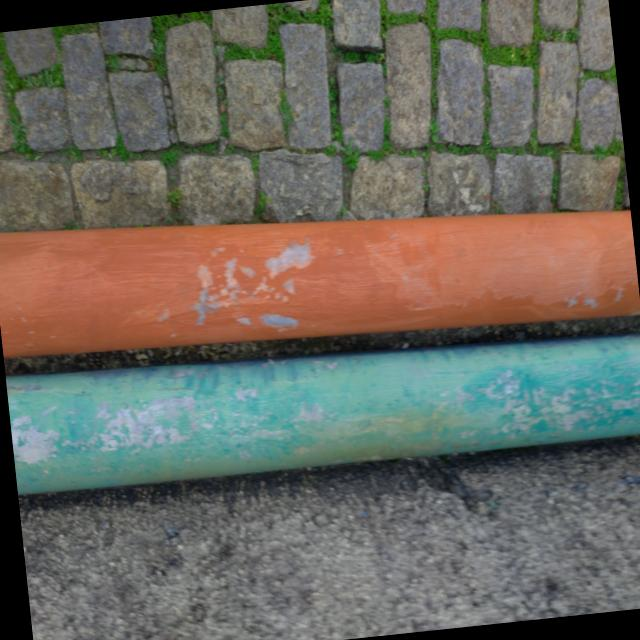gas: (5, 340, 640, 492), (0, 212, 634, 360)
